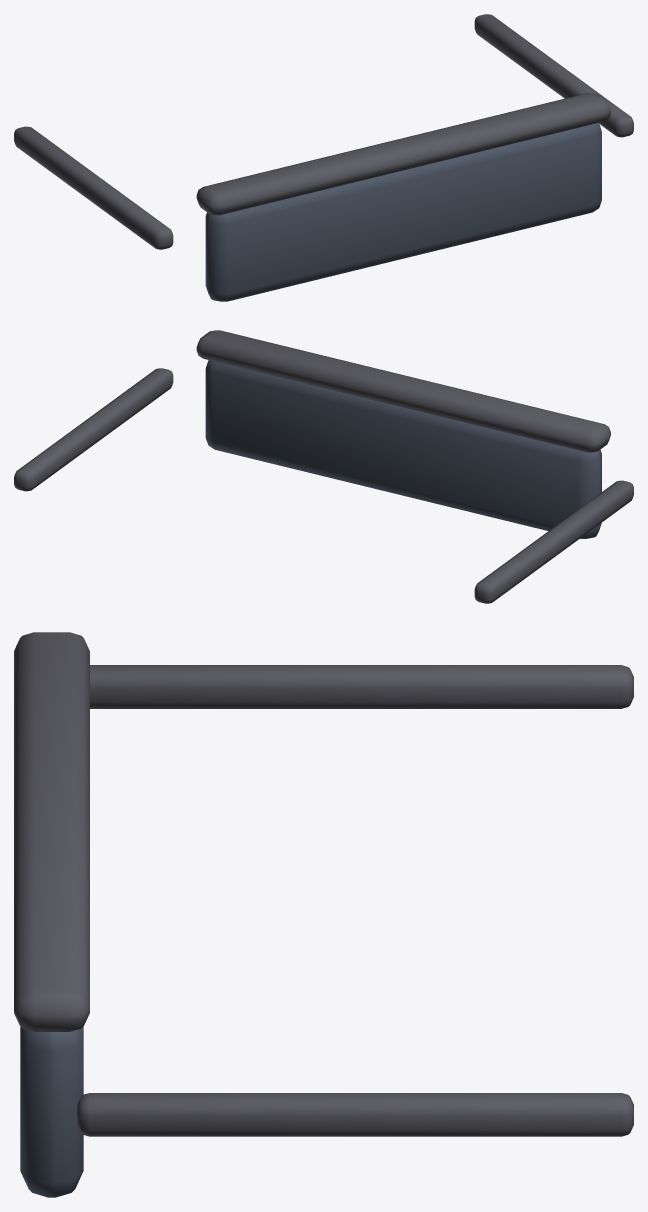
File: CharGlassesShield.fbx
The picture shows the model from 3 angles, top to bottom: view 1: azimuth 30°, elevation 25°; view 2: azimuth 150°, elevation 25°; view 3: azimuth 270°, elevation 25°; orthographic projection. The views are drawn at different scales.
Parts seen in each view (by area): view 1: CharGlassesShield; view 2: CharGlassesShield; view 3: CharGlassesShield.
Part boxes in pixels (x1=…): CharGlassesShield: x1=14, y1=14, x2=633, y2=301; CharGlassesShield: x1=14, y1=330, x2=633, y2=603; CharGlassesShield: x1=14, y1=632, x2=633, y2=1197.
Bounding box in the file's own units: 0.416 × 0.094 × 0.245.
